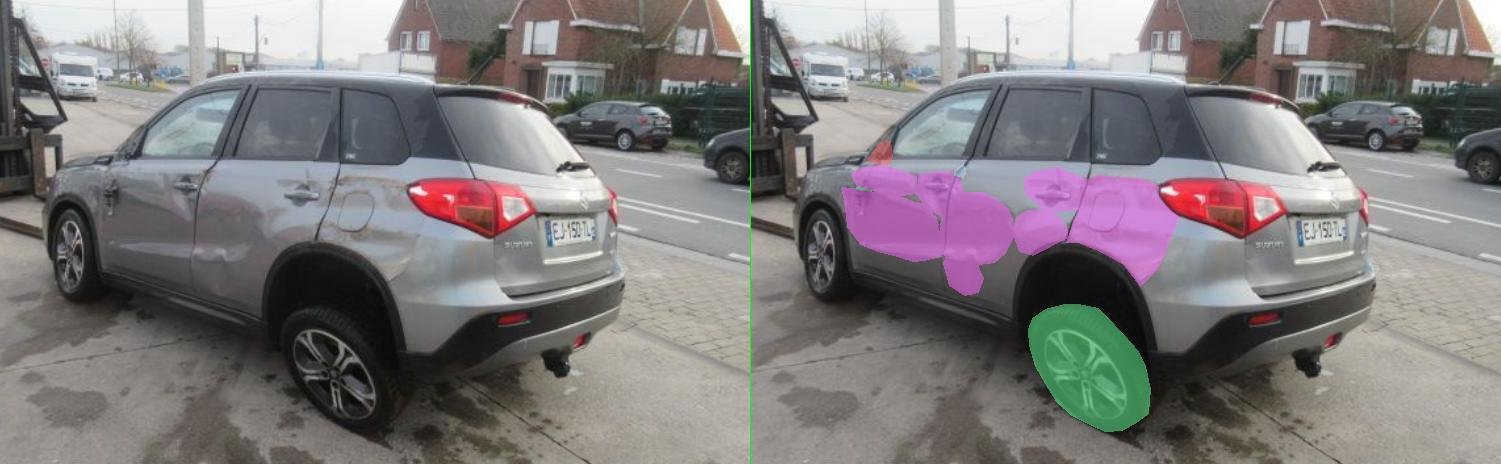Broken part: (554, 304, 799, 431), (204, 176, 242, 211)
Corrosion: (406, 164, 428, 177)
Dent: (630, 175, 857, 286), (180, 187, 380, 261), (376, 192, 524, 265), (546, 167, 678, 212), (522, 209, 632, 255), (330, 170, 424, 217), (200, 165, 332, 197), (384, 251, 464, 295)
Missing part: (232, 141, 282, 165)
